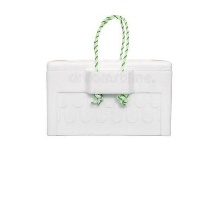foam_box: (38, 10, 179, 142)
